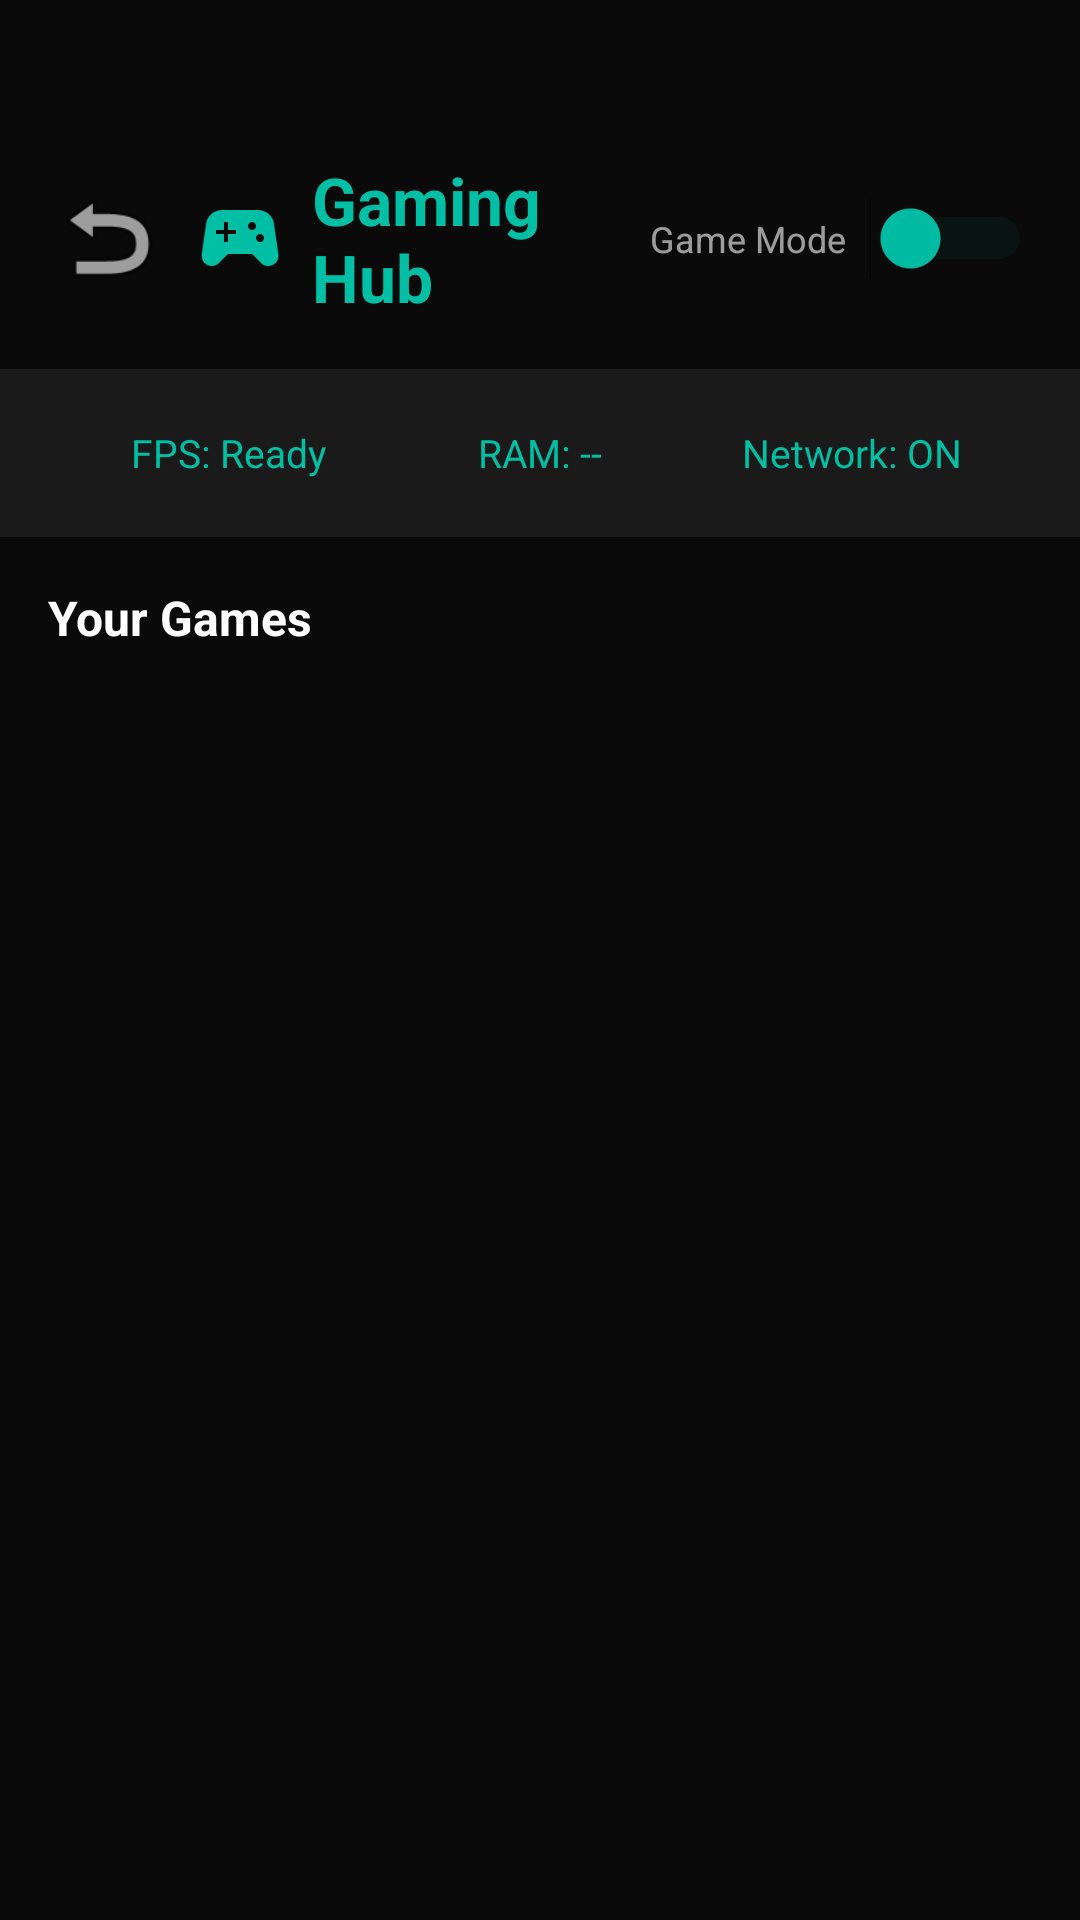

Where to tap for icons on this 1080w x 1920h app screen, as point (x, y):
revert: point (109, 238)
